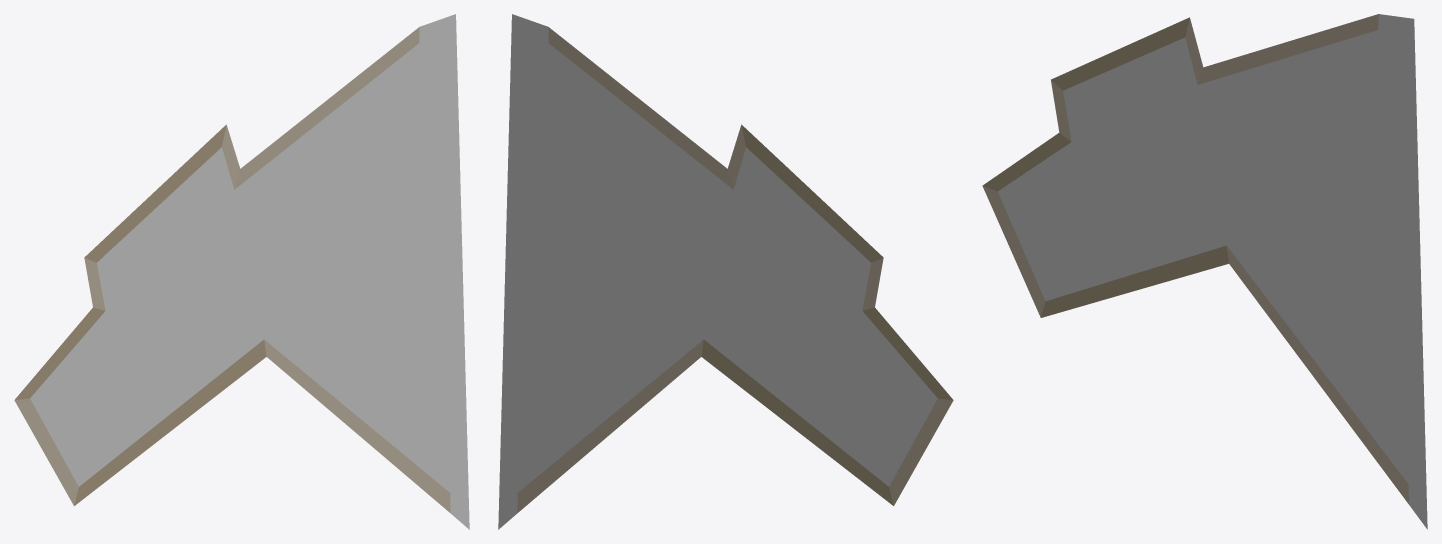
The model's file is treasureQuestPuzzlePiecesG.glb.
The picture shows the model from 3 angles, left to right: view 1: azimuth 30°, elevation 25°; view 2: azimuth 150°, elevation 25°; view 3: azimuth 330°, elevation 25°; orthographic projection. The views are drawn at different scales.
Visible parts, largest first — view 1: treasureQuestPuzzlePiecesG; view 2: treasureQuestPuzzlePiecesG; view 3: treasureQuestPuzzlePiecesG.
Boxes of the visible parts, <box> form: treasureQuestPuzzlePiecesG: <box>14,14,469,529</box>; treasureQuestPuzzlePiecesG: <box>498,14,953,529</box>; treasureQuestPuzzlePiecesG: <box>982,14,1427,529</box>.
Size of the model in its own units: 0.6091 by 0.6638 by 0.
